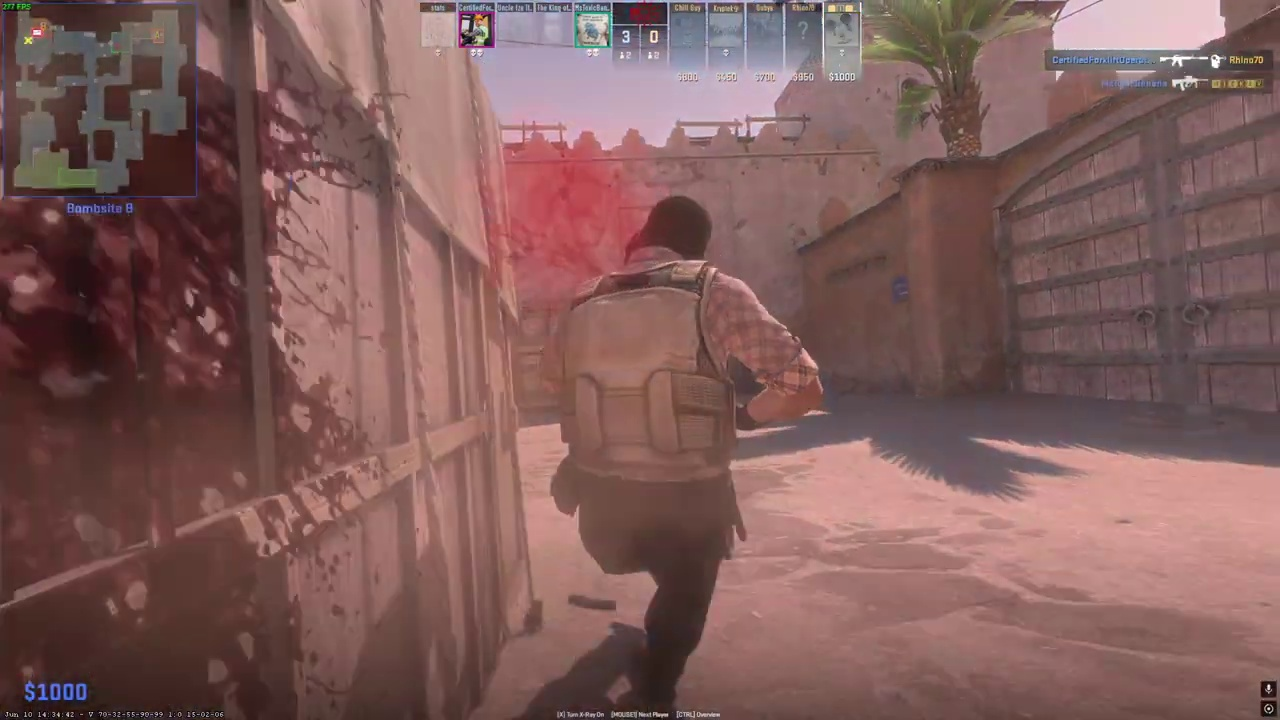Terrorist: (556, 195, 760, 717)
